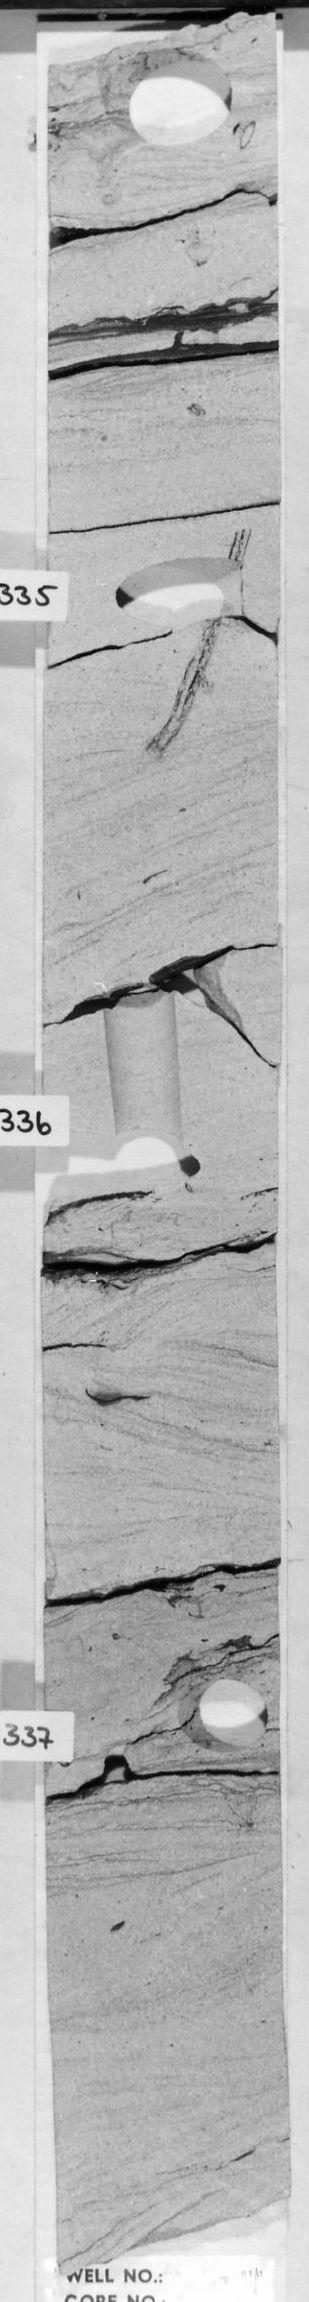hplug: (103, 545, 249, 634), (166, 1668, 274, 1760), (110, 1126, 212, 1210)
scal: (91, 46, 255, 153)
vplug: (93, 987, 191, 1128), (85, 1734, 143, 1791)
